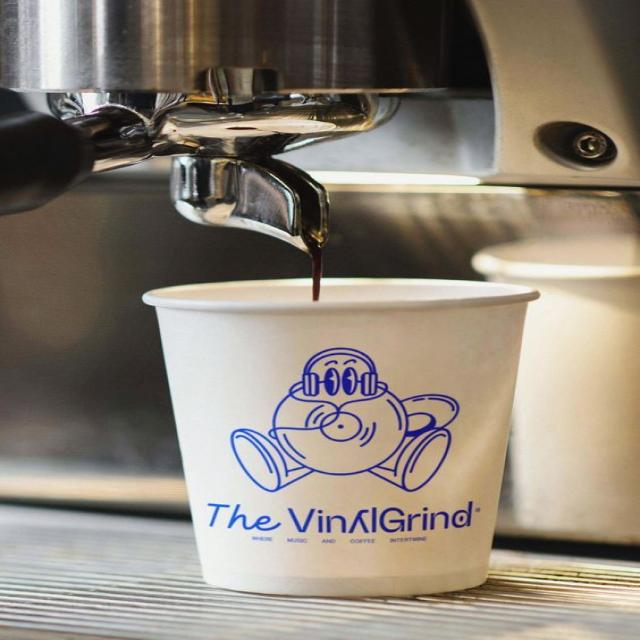paper cup: (142, 277, 540, 596)
